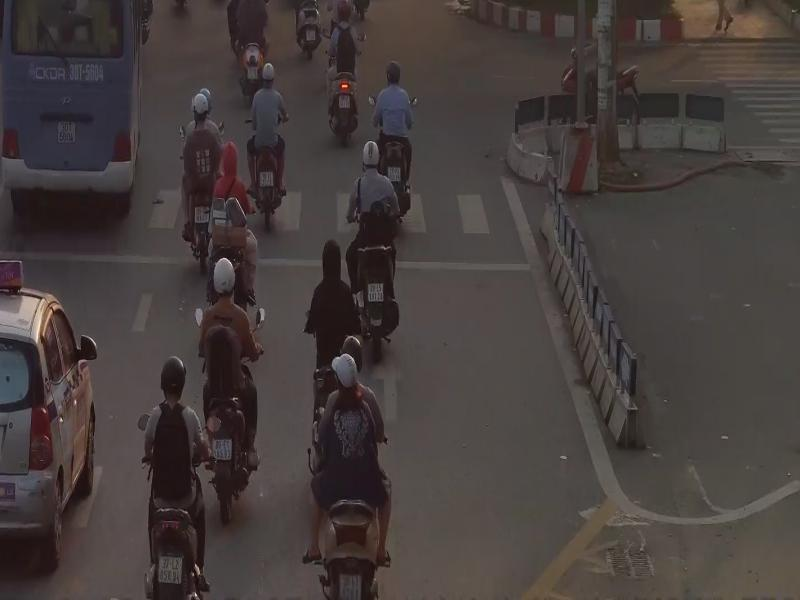helmet: (332, 353, 358, 397), (160, 356, 187, 395), (342, 334, 363, 378), (213, 258, 235, 292), (364, 141, 380, 166), (192, 94, 208, 118), (386, 60, 401, 84), (338, 1, 351, 21), (263, 63, 275, 82)
license_plate: (160, 556, 183, 584), (338, 575, 362, 599), (212, 436, 234, 460), (58, 121, 76, 144), (194, 204, 210, 224), (369, 283, 384, 302), (261, 171, 275, 187), (388, 166, 401, 181), (339, 95, 350, 107)
motorcyclist: (318, 334, 392, 600), (198, 254, 265, 524), (140, 358, 209, 600), (346, 132, 406, 360), (180, 84, 228, 279), (210, 140, 256, 312), (247, 56, 292, 231), (374, 56, 415, 228), (330, 1, 364, 148), (237, 0, 267, 104)
